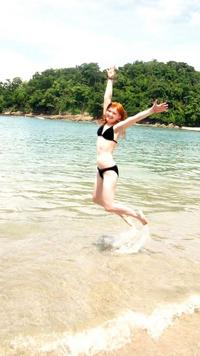person: (94, 63, 169, 230)
